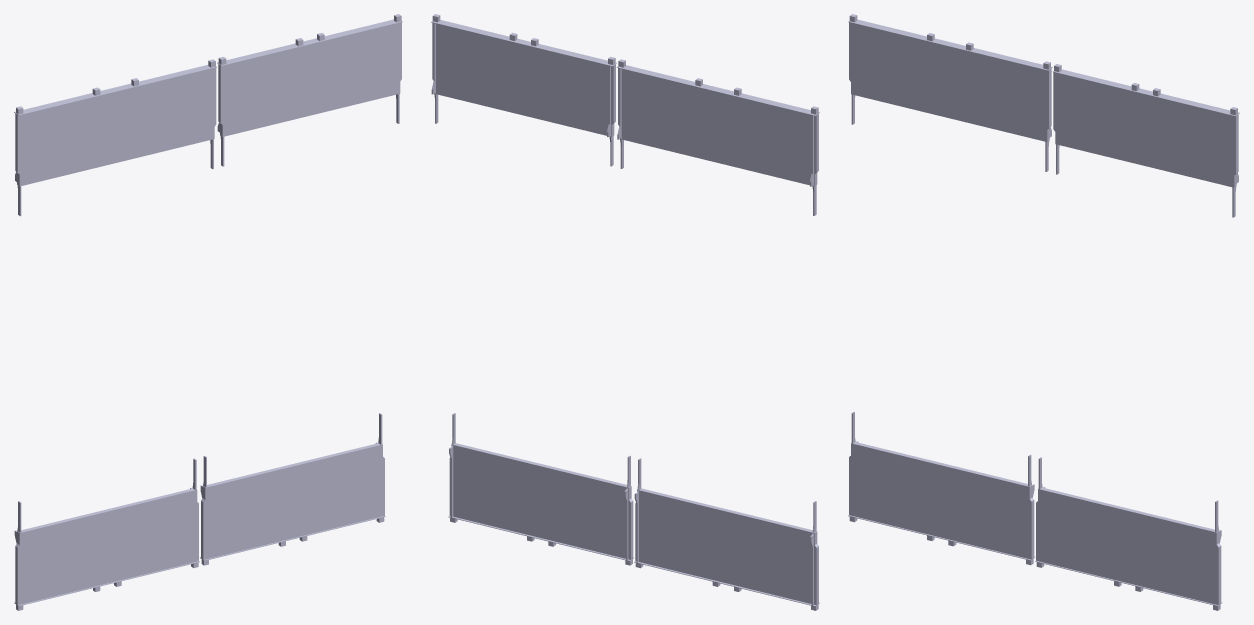
File: CATWALK.obj
The picture shows the model from 3 angles, left to right: view 1: azimuth 30°, elevation 25°; view 2: azimuth 150°, elevation 25°; view 3: azimuth 330°, elevation 25°; orthographic projection.
Parts seen in each view (by area): view 1: SCX2000-3_CATWALK_000_1-HSC_SCX2000-3_CATWALK_MODEL (Meshed); view 2: SCX2000-3_CATWALK_000_1-HSC_SCX2000-3_CATWALK_MODEL (Meshed); view 3: SCX2000-3_CATWALK_000_1-HSC_SCX2000-3_CATWALK_MODEL (Meshed).
Boxes of the visible parts, x1=… form: SCX2000-3_CATWALK_000_1-HSC_SCX2000-3_CATWALK_MODEL (Meshed): x1=14, y1=14, x2=402, y2=610; SCX2000-3_CATWALK_000_1-HSC_SCX2000-3_CATWALK_MODEL (Meshed): x1=431, y1=14, x2=819, y2=610; SCX2000-3_CATWALK_000_1-HSC_SCX2000-3_CATWALK_MODEL (Meshed): x1=848, y1=14, x2=1239, y2=610.
Bounding box in the file's own units: 3645 × 4546 × 103.
